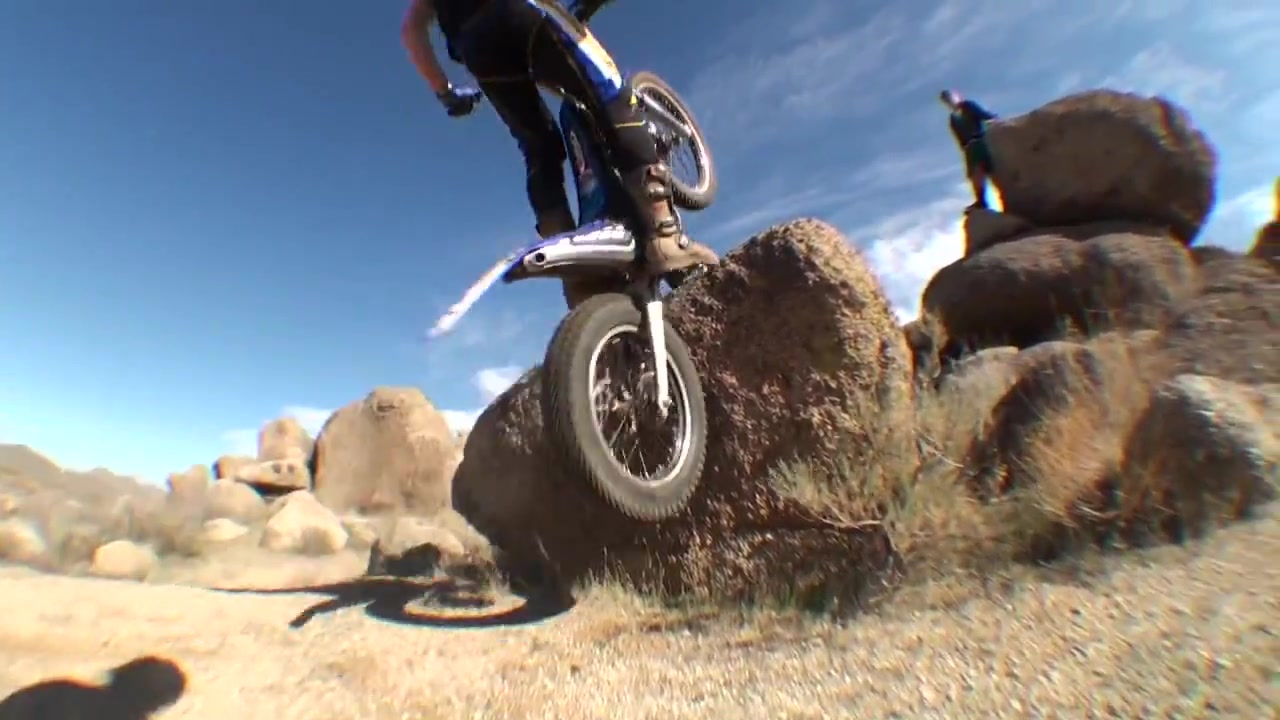motorbike: (426, 3, 719, 525)
